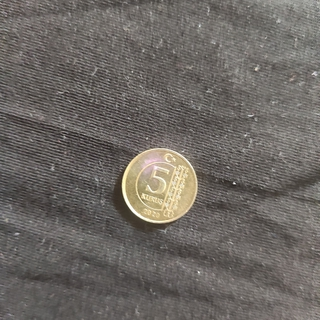5KURUS: (119, 146, 200, 226)
